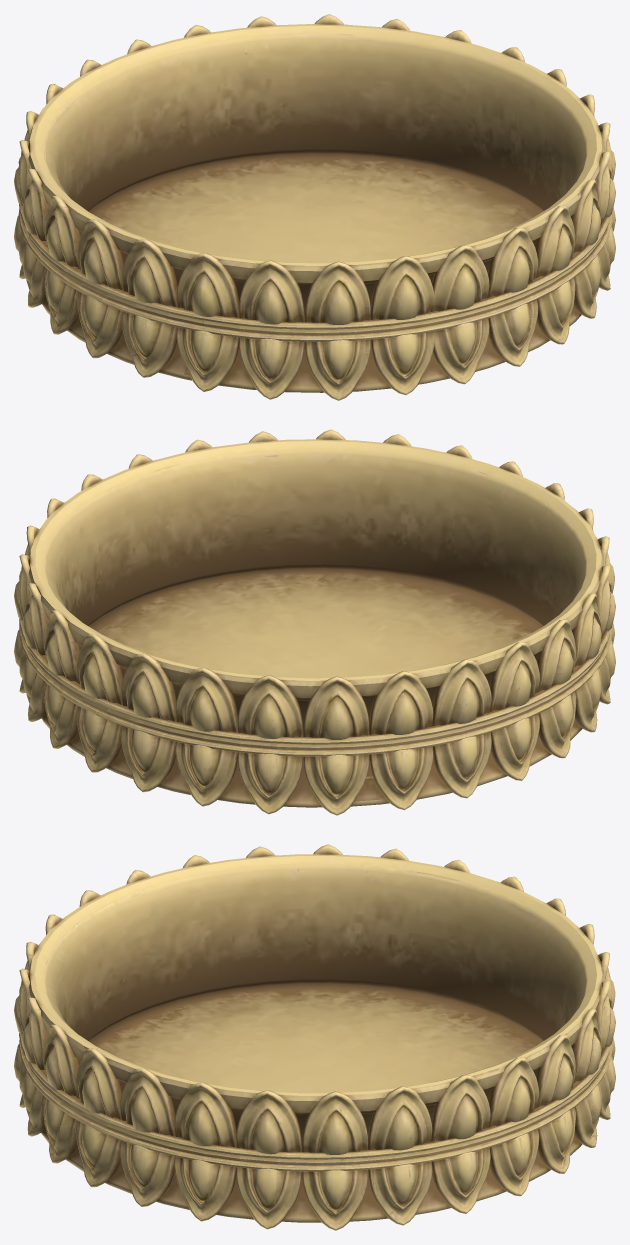
File: urli.glb
3 views of the same model, one above another, from view 1: azimuth 30°, elevation 25°; view 2: azimuth 150°, elevation 25°; view 3: azimuth 270°, elevation 25° (orthographic).
Visible parts, largest first — view 1: Torus.002_lambert2_0; view 2: Torus.002_lambert2_0; view 3: Torus.002_lambert2_0.
Boxes of the visible parts, x1=… form: Torus.002_lambert2_0: x1=14, y1=14, x2=615, y2=400; Torus.002_lambert2_0: x1=14, y1=429, x2=615, y2=815; Torus.002_lambert2_0: x1=14, y1=844, x2=615, y2=1230.
Size of the model in its own units: 0.4877 by 0.1238 by 0.4877.
1 material, 1 textured.
